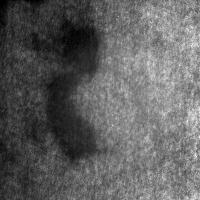patches: (46, 31, 186, 171), (41, 64, 98, 161), (47, 15, 99, 86)
